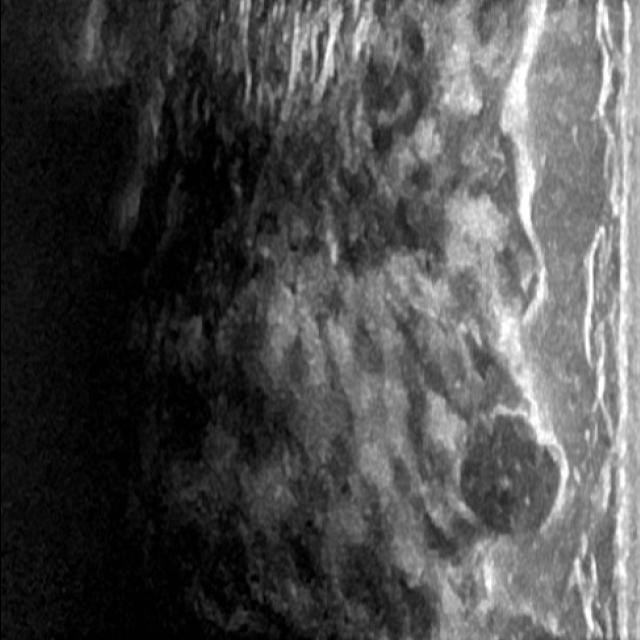Benign: (458, 426, 562, 540)
